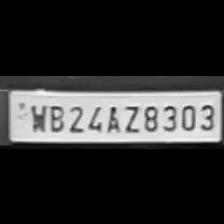0: (177, 100, 197, 130)
2: (66, 101, 84, 133)
3: (198, 99, 216, 131), (160, 99, 178, 130)
4: (84, 100, 104, 132)
8: (140, 100, 160, 132)
A: (103, 100, 120, 132)
B: (46, 100, 64, 132)
W: (26, 98, 46, 132)
Z: (119, 100, 138, 132)
